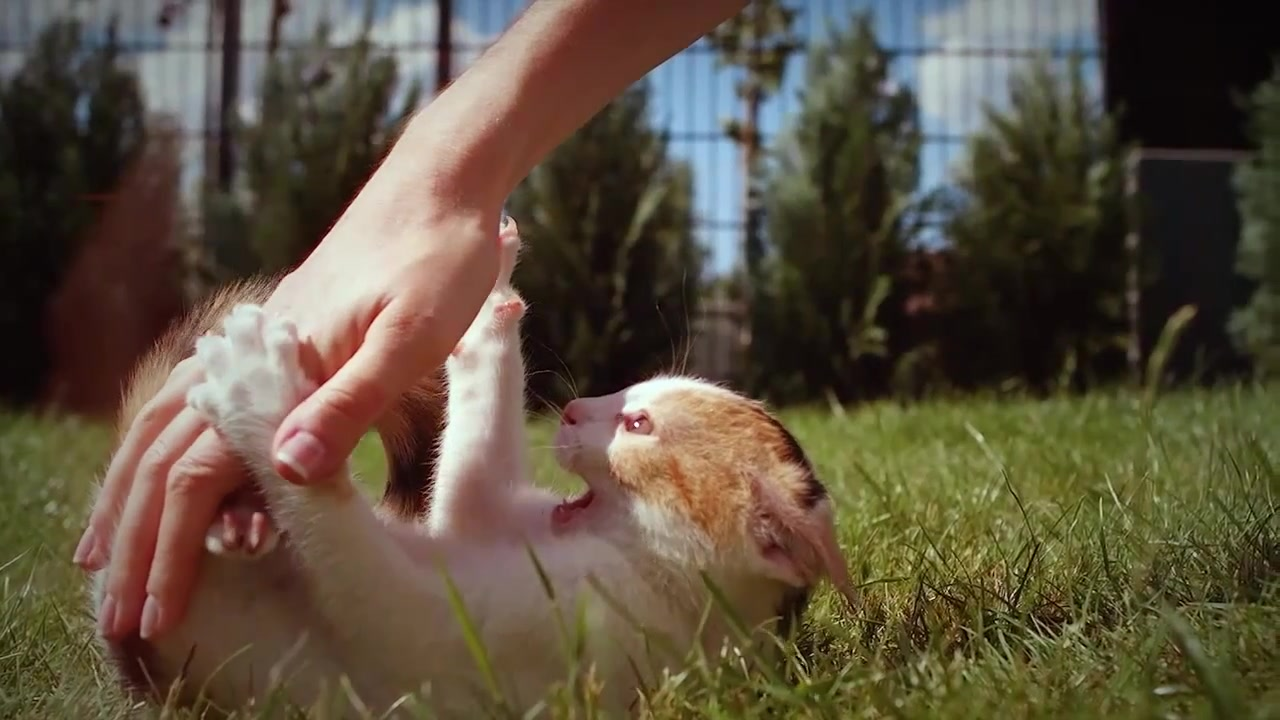cat: (90, 203, 870, 720)
